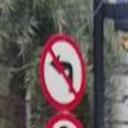NoVirarEsquerda: (40, 34, 84, 110)
